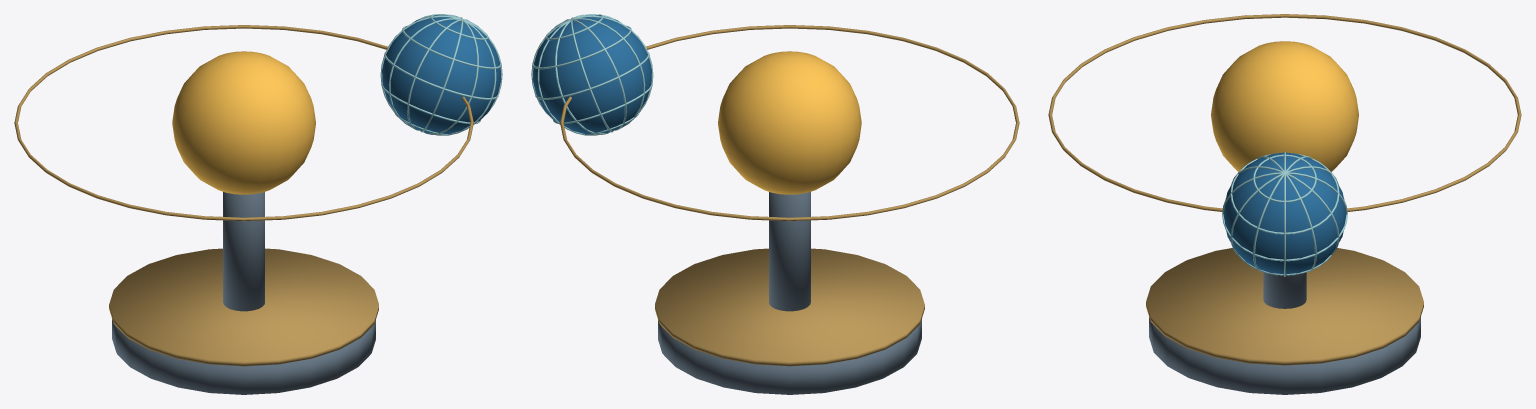
The model's file is earthsky-seasons-v1-normal.glb.
3 renders of one model, left to right at view 1: azimuth 30°, elevation 25°; view 2: azimuth 150°, elevation 25°; view 3: azimuth 270°, elevation 25°, orthographic. The views are drawn at different scales.
Parts seen in each view (by area): view 1: brass-trim, sun, earth-ocean, weighted-base, pedestal, orbit-diagram, longitude.005; view 2: brass-trim, sun, earth-ocean, weighted-base, pedestal, orbit-diagram, longitude.001; view 3: brass-trim, sun, earth-ocean, weighted-base, orbit-diagram, pedestal, latitude.003, latitude.002.
Part boxes in pixels (x1,y1,x2,y2): brass-trim: [109, 248, 378, 366]; sun: [172, 51, 315, 194]; earth-ocean: [382, 15, 501, 134]; weighted-base: [112, 319, 375, 394]; pedestal: [223, 192, 264, 311]; orbit-diagram: [14, 25, 473, 221]; longitude.005: [380, 15, 502, 119]; brass-trim: [655, 248, 924, 366]; sun: [718, 51, 861, 194]; earth-ocean: [532, 15, 651, 134]; weighted-base: [658, 319, 921, 394]; pedestal: [769, 192, 810, 311]; orbit-diagram: [560, 25, 1019, 221]; longitude.001: [531, 15, 653, 119]; brass-trim: [1146, 248, 1423, 365]; sun: [1211, 41, 1358, 171]; earth-ocean: [1223, 152, 1346, 274]; weighted-base: [1149, 317, 1420, 394]; orbit-diagram: [1048, 14, 1521, 211]; pedestal: [1263, 272, 1306, 308]; latitude.003: [1230, 153, 1339, 234]; latitude.002: [1222, 198, 1347, 261].
Size of the model in its own units: 0.8646 by 0.5175 by 0.766.
